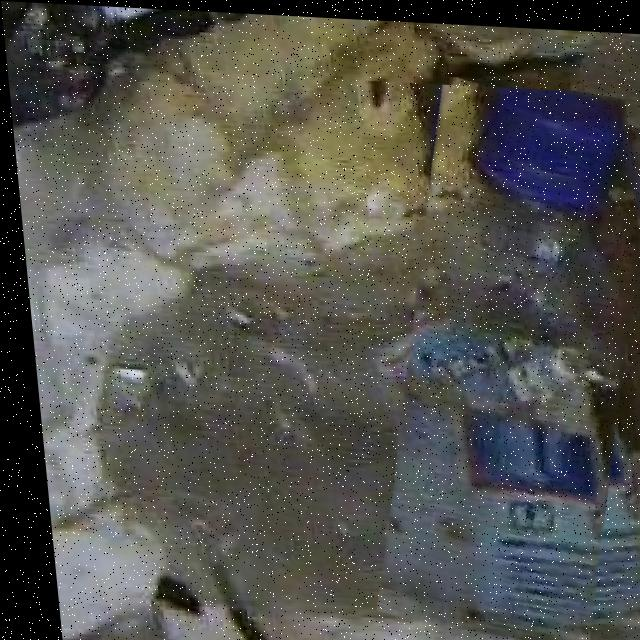plasticbottle: (354, 75, 640, 640)
